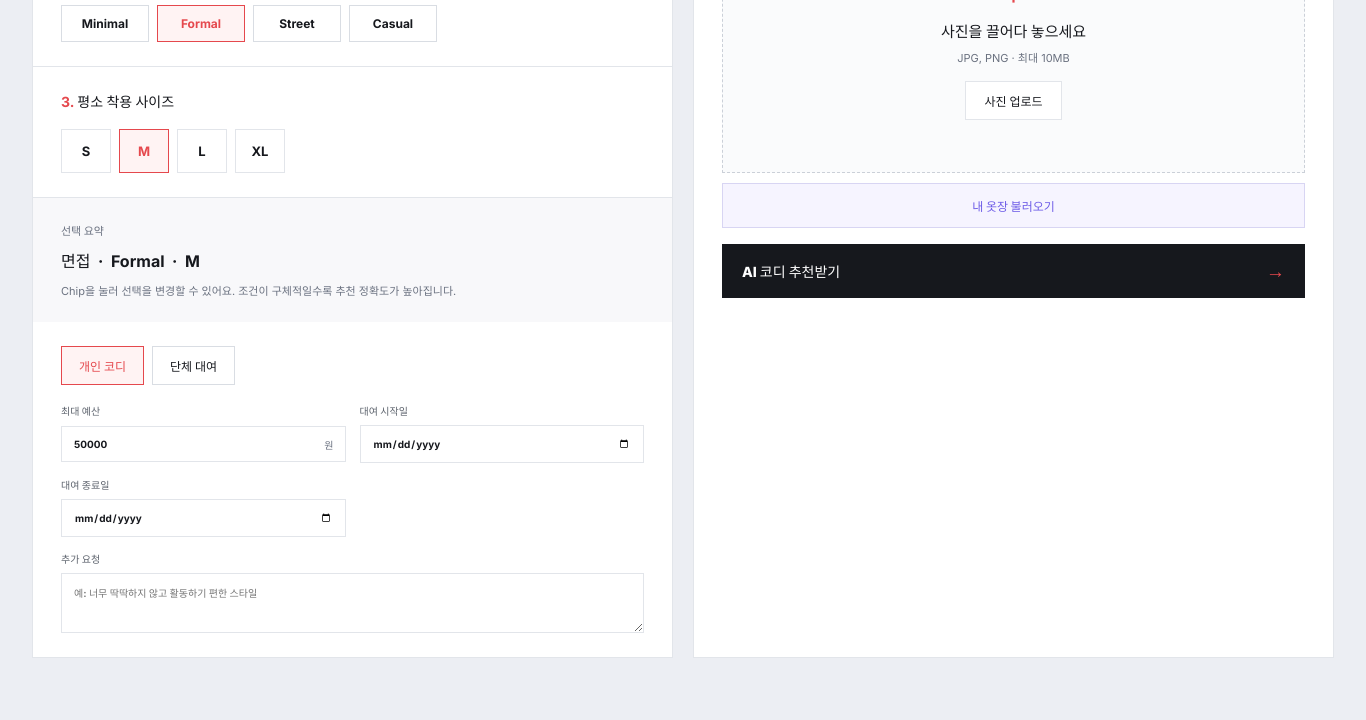
it: RecommendView › 종료일이 시작일보다 빠르면 요청을 거절한다
(page scrolled)
Step 1. Type "2030-01-12" into the date field labelled "대여 시작일" → (502, 444), box [360, 425, 644, 463]
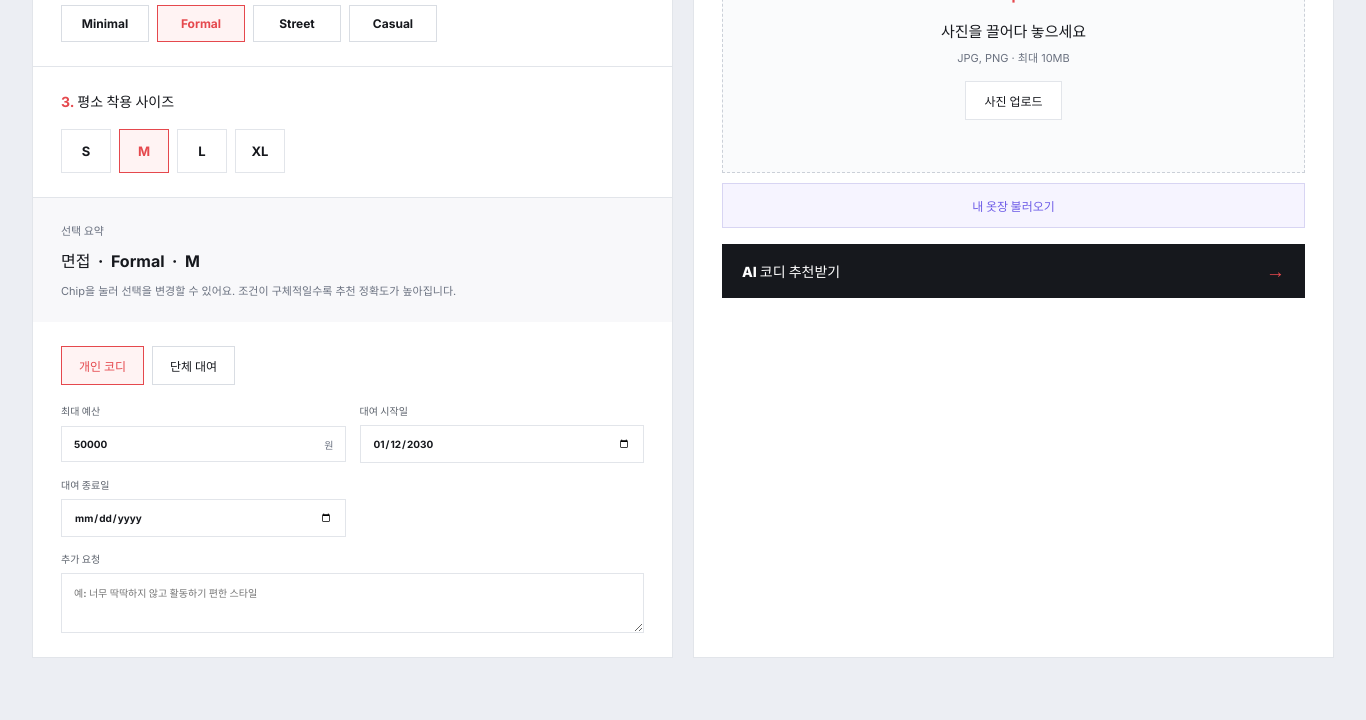
Step 2. Type "2030-01-10" into the date field labelled "대여 종료일" → (203, 518), box [61, 499, 346, 537]
(page scrolled)
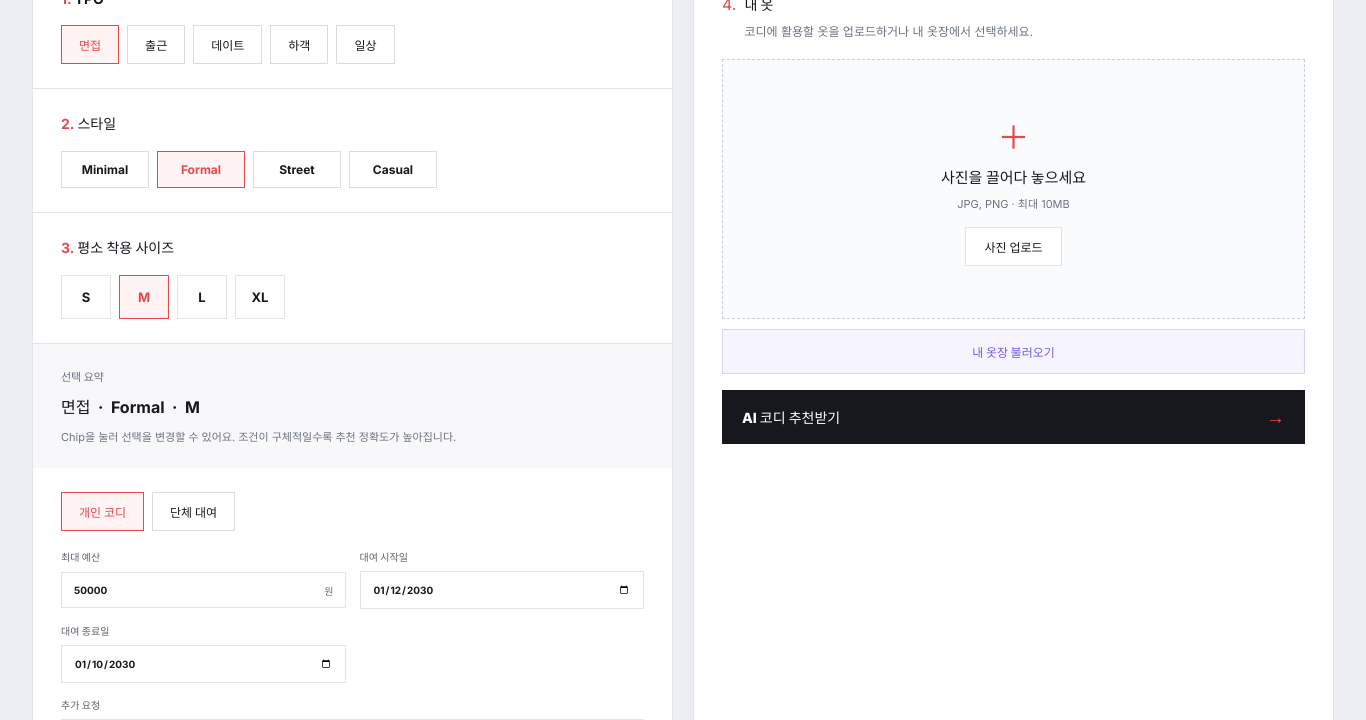
Step 3. Submit the form
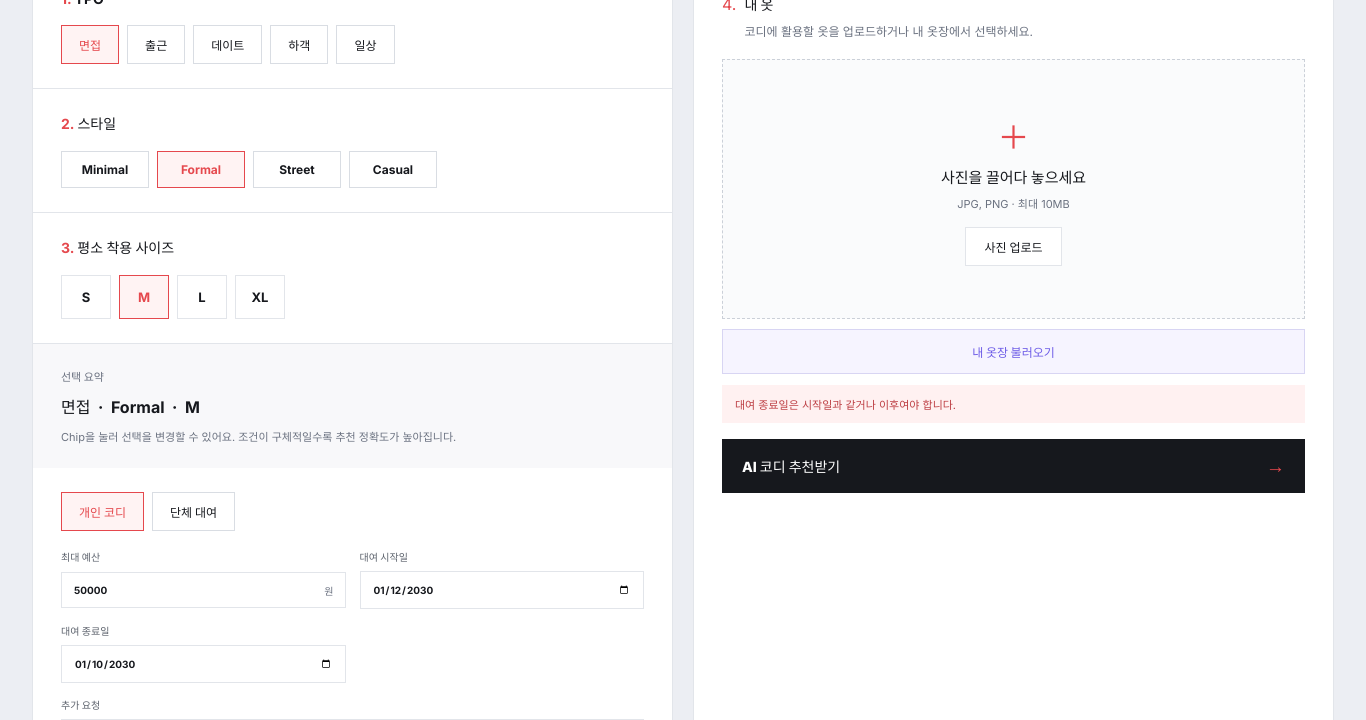
Check: the message "대여 종료일은 시작일과 같거나 이후여야 합니다." is shown, box [722, 385, 1305, 423]
